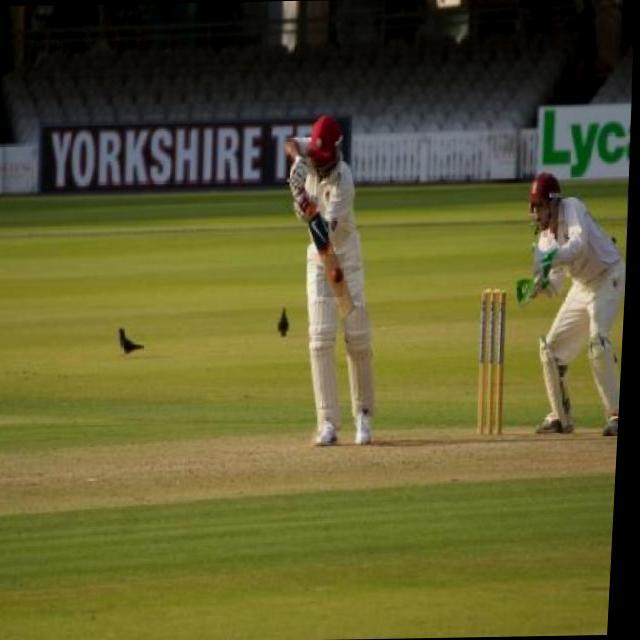-: (327, 254, 348, 297)
